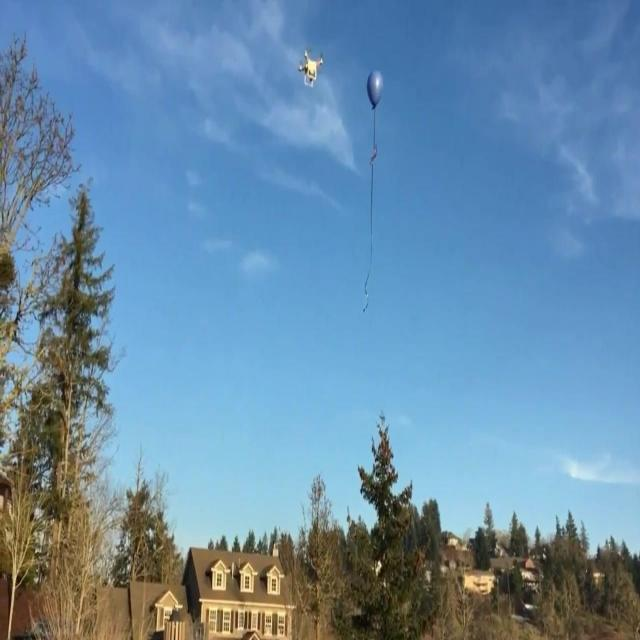UAV: (298, 50, 323, 87)
